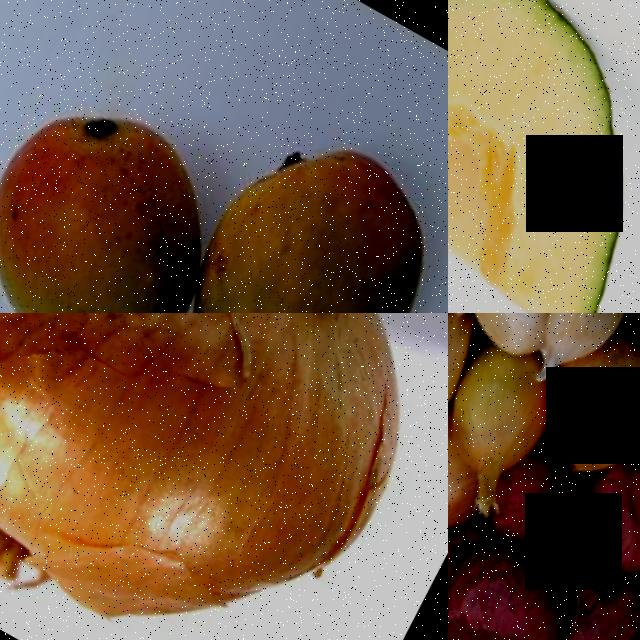mango: (125, 99, 448, 313), (0, 72, 251, 313)
melon: (448, 0, 640, 313)
onion: (0, 313, 448, 640), (530, 314, 640, 490), (448, 342, 561, 489)
